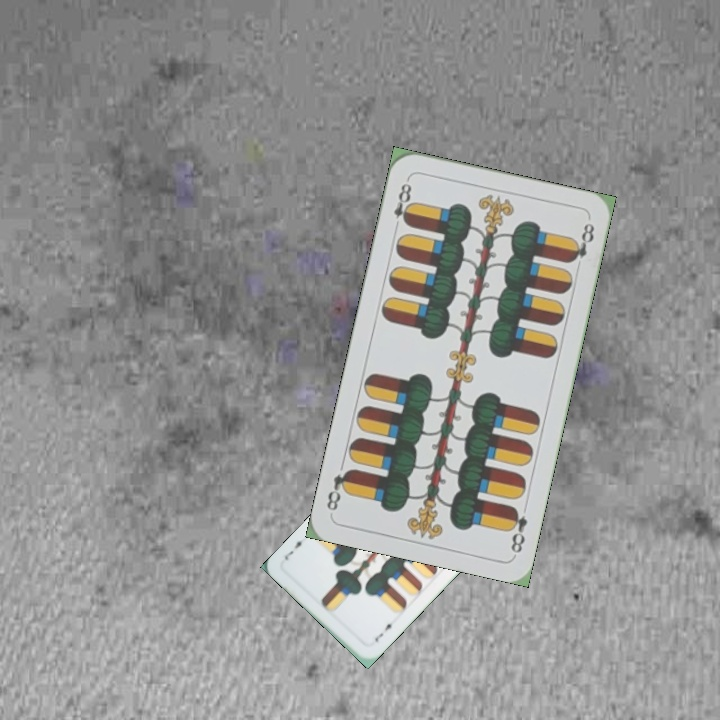E7: (371, 618, 398, 645)
E8: (389, 175, 416, 233), (504, 503, 530, 558)
